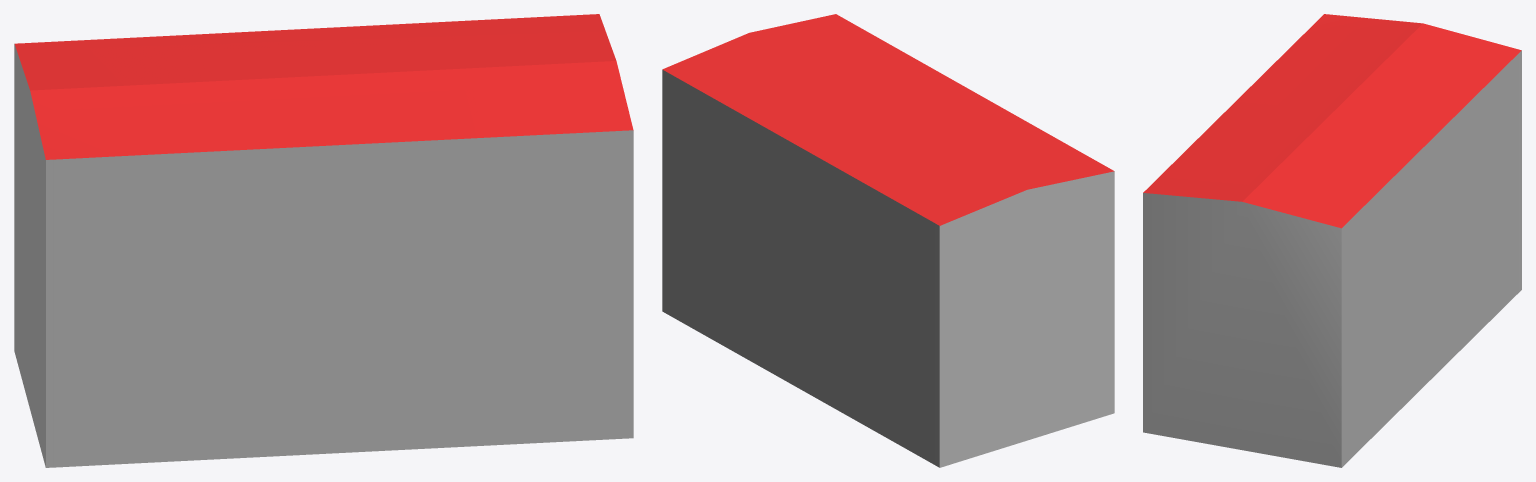
File: DEBY_LOD2_4907212.dae
The picture shows the model from 3 angles, left to right: view 1: azimuth 30°, elevation 25°; view 2: azimuth 150°, elevation 25°; view 3: azimuth 270°, elevation 25°; orthographic projection. The views are drawn at different scales.
Size of the model in its own units: 32.65 by 24.38 by 17.64.
